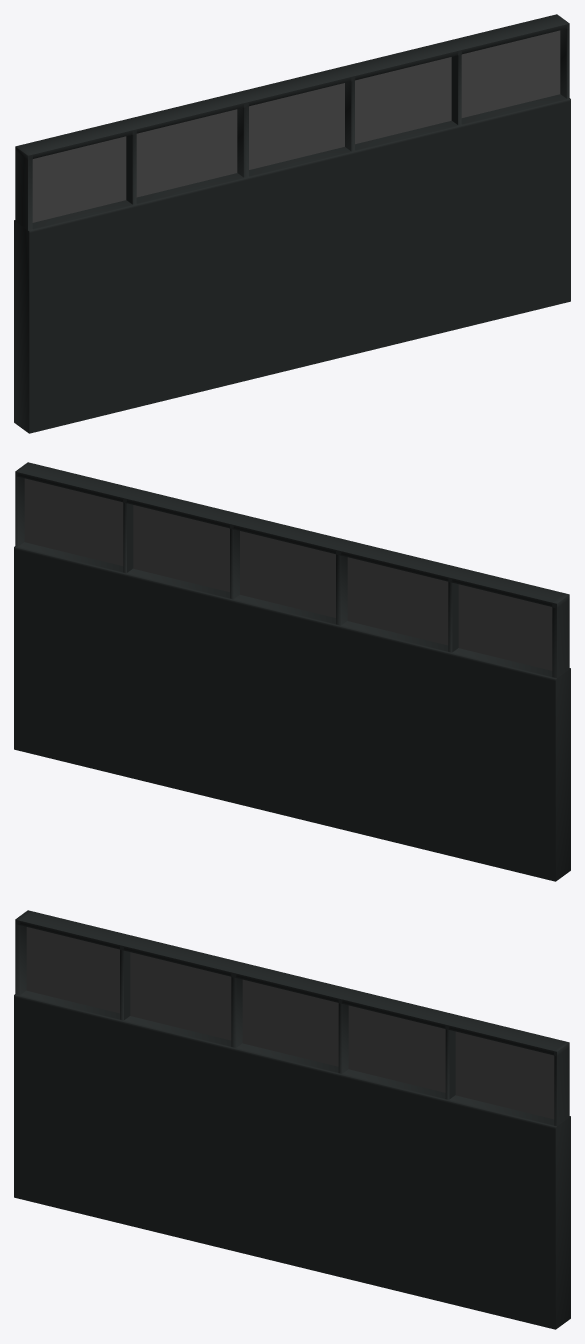
File: LC_3014_CafeWall_LOD2.FBX
3 renders of one model, top to bottom at view 1: azimuth 30°, elevation 25°; view 2: azimuth 150°, elevation 25°; view 3: azimuth 330°, elevation 25°, orthographic.
Visible parts, largest first — view 1: LC_3014_CafeWall_LOD2; view 2: LC_3014_CafeWall_LOD2; view 3: LC_3014_CafeWall_LOD2.
Boxes of the visible parts, x1=… form: LC_3014_CafeWall_LOD2: x1=14, y1=14, x2=570, y2=433; LC_3014_CafeWall_LOD2: x1=14, y1=462, x2=570, y2=881; LC_3014_CafeWall_LOD2: x1=14, y1=910, x2=570, y2=1329.
Size of the model in its own units: 203 by 99.51 by 10.
2 materials, 2 textured.
